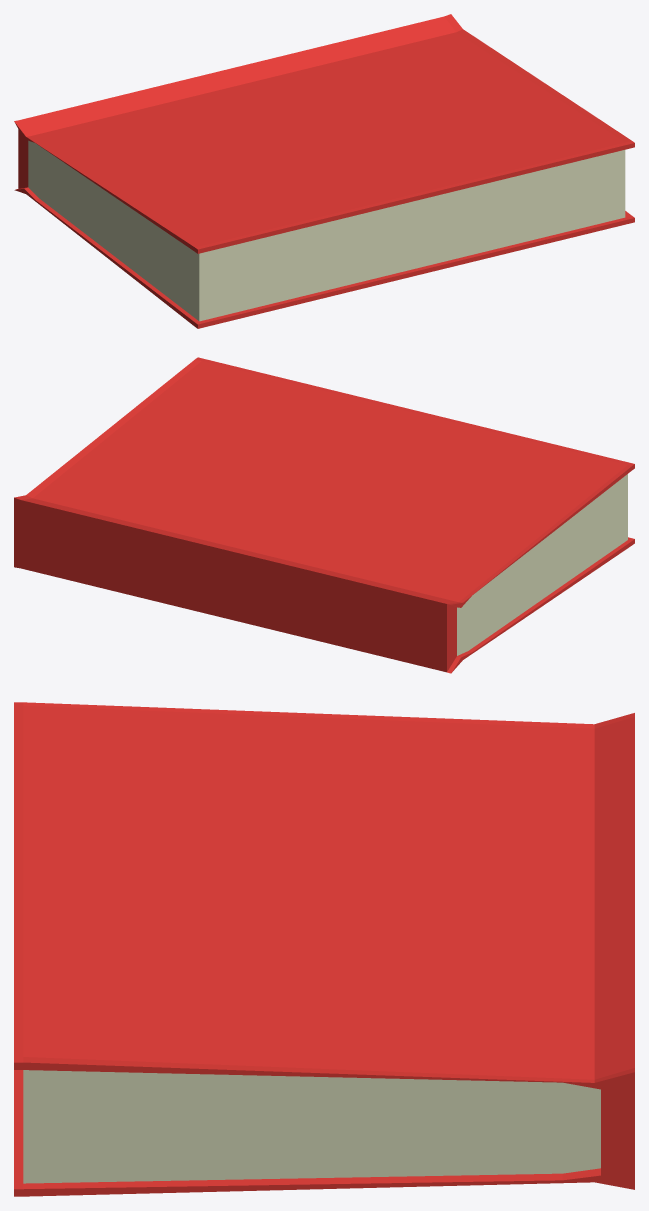
The model's file is red booke.fbx.
3 renders of one model, top to bottom at view 1: azimuth 30°, elevation 25°; view 2: azimuth 150°, elevation 25°; view 3: azimuth 270°, elevation 25°, orthographic. The views are drawn at different scales.
Visible parts, largest first — view 1: Cube.007; view 2: Cube.007; view 3: Cube.007.
Boxes of the visible parts, left/top/right/bottom form: Cube.007: left=14, top=14, right=634, bottom=328; Cube.007: left=14, top=357, right=634, bottom=673; Cube.007: left=14, top=702, right=634, bottom=1196.
Size of the model in its own units: 1086 by 188 by 791.
